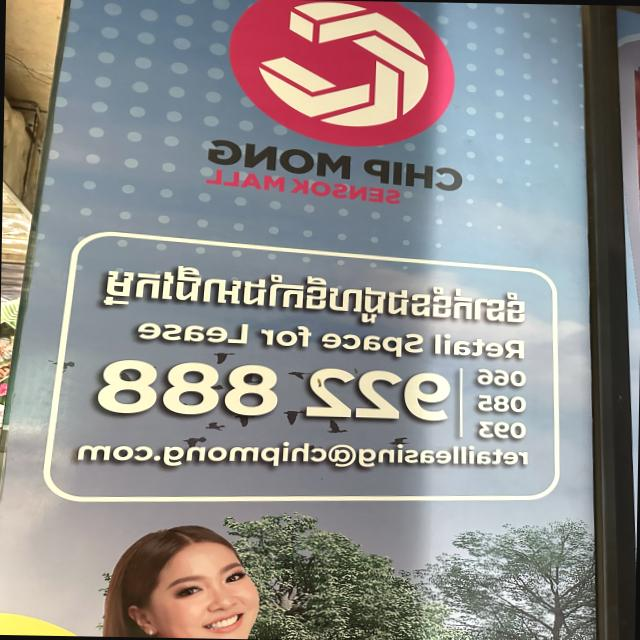350: (473, 362, 533, 390)
399: (474, 389, 537, 418)
445: (472, 418, 533, 442)
880: (91, 352, 461, 423)
Yolov11_80vkh: (94, 255, 536, 331)
